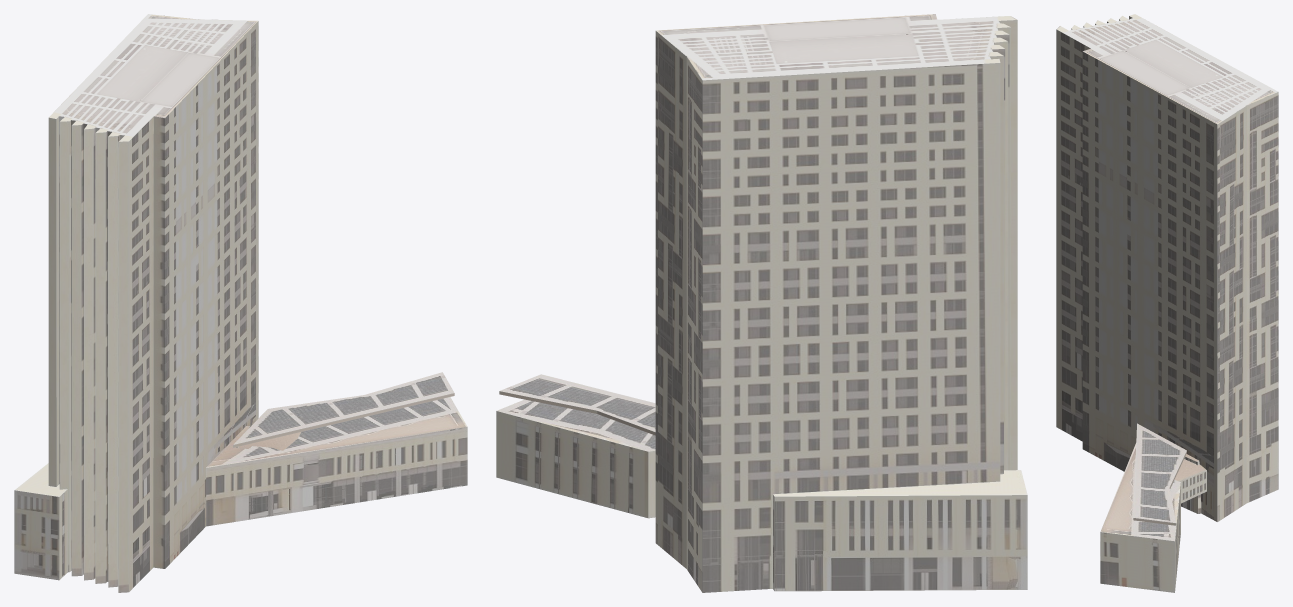
The picture shows the model from 3 angles, left to right: view 1: azimuth 30°, elevation 25°; view 2: azimuth 150°, elevation 25°; view 3: azimuth 270°, elevation 25°; orthographic projection. The views are drawn at different scales.
Parts seen in each view (by area): view 1: 5.001; view 2: 5.001; view 3: 5.001.
Part boxes in pixels (left/top/right/bottom): 5.001: left=14, top=14, right=467, bottom=592; 5.001: left=496, top=14, right=1027, bottom=592; 5.001: left=1056, top=14, right=1278, bottom=592.
Size of the model in its own units: 102 by 97.82 by 49.29.
Materials: 1 (1 with a texture image).
